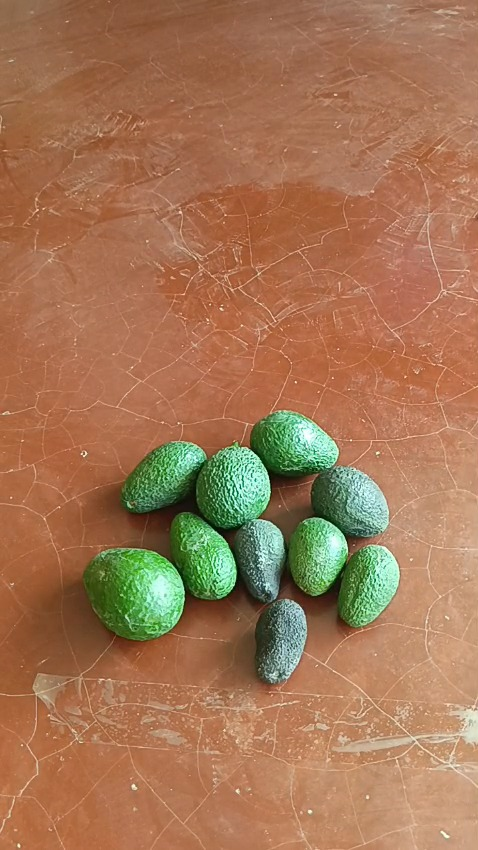Primera: (83, 547, 186, 640), (195, 442, 271, 528), (249, 409, 339, 476), (318, 473, 358, 513)
Segunda: (119, 440, 207, 512), (169, 510, 237, 599), (309, 465, 389, 537)
Tercera: (337, 544, 399, 627), (287, 517, 347, 596), (253, 597, 308, 683), (232, 518, 285, 602)
